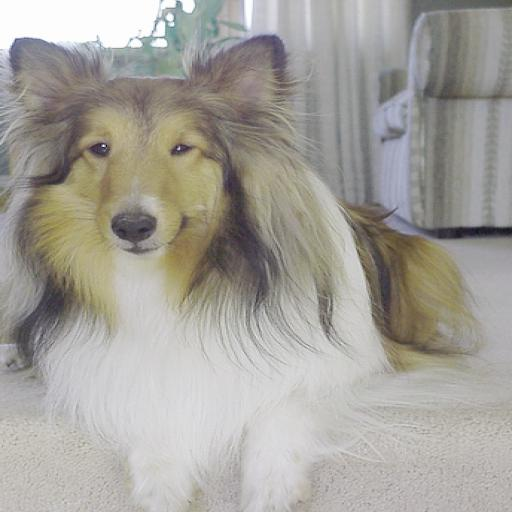dog_face: (1, 32, 288, 269)
